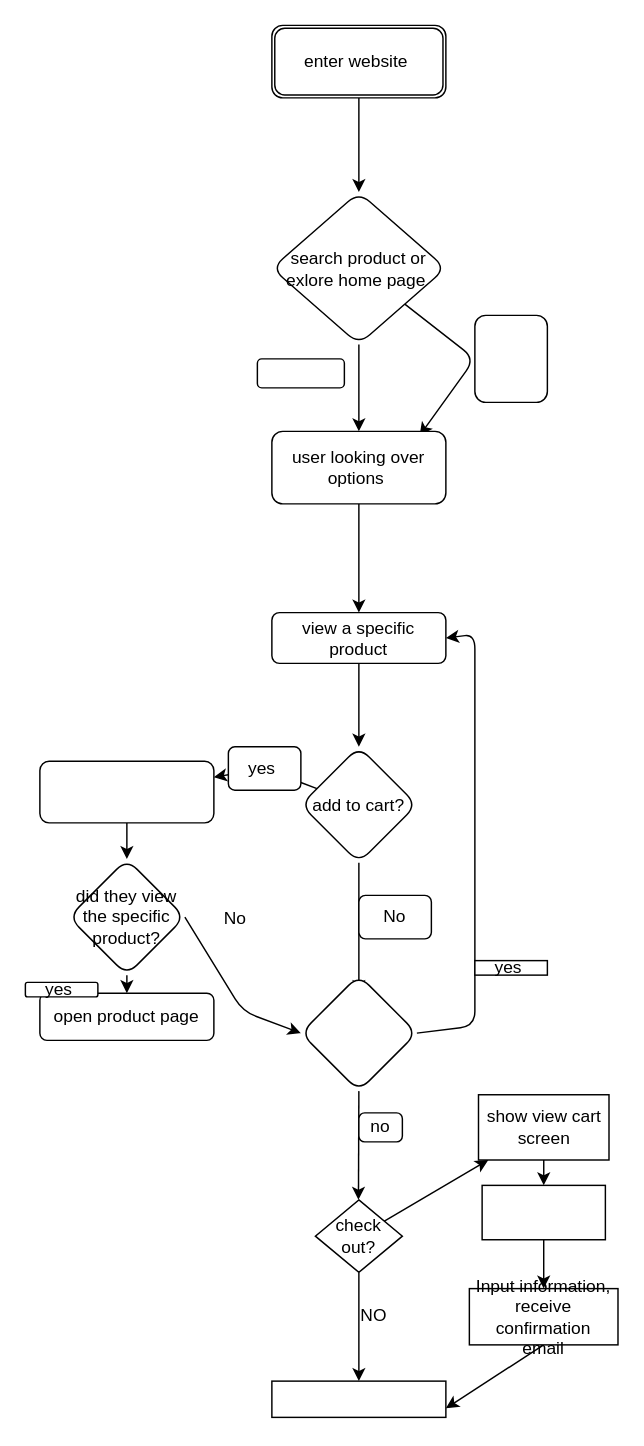
Image size: 644x1446. Some labels were removed from this diagram. The centre of each missing label's shape, as x and y in pixels:
"continue shopping" goes at point (358, 1032).
"goes to home page" goes at point (300, 372).
"LEAVE WEBSITE" goes at point (358, 1398).
"receive added to cart confirmation" goes at point (126, 791).
"searches for product" goes at point (510, 358).
"view payment screen" goes at point (543, 1212).
